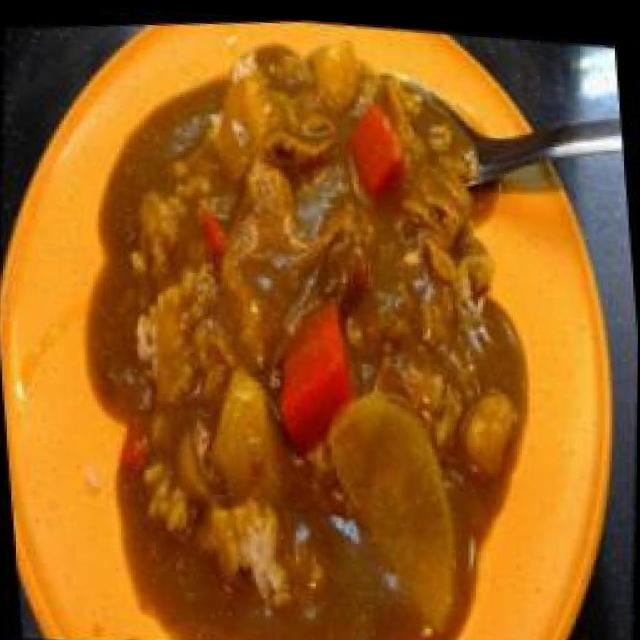curry: (38, 2, 580, 640)
